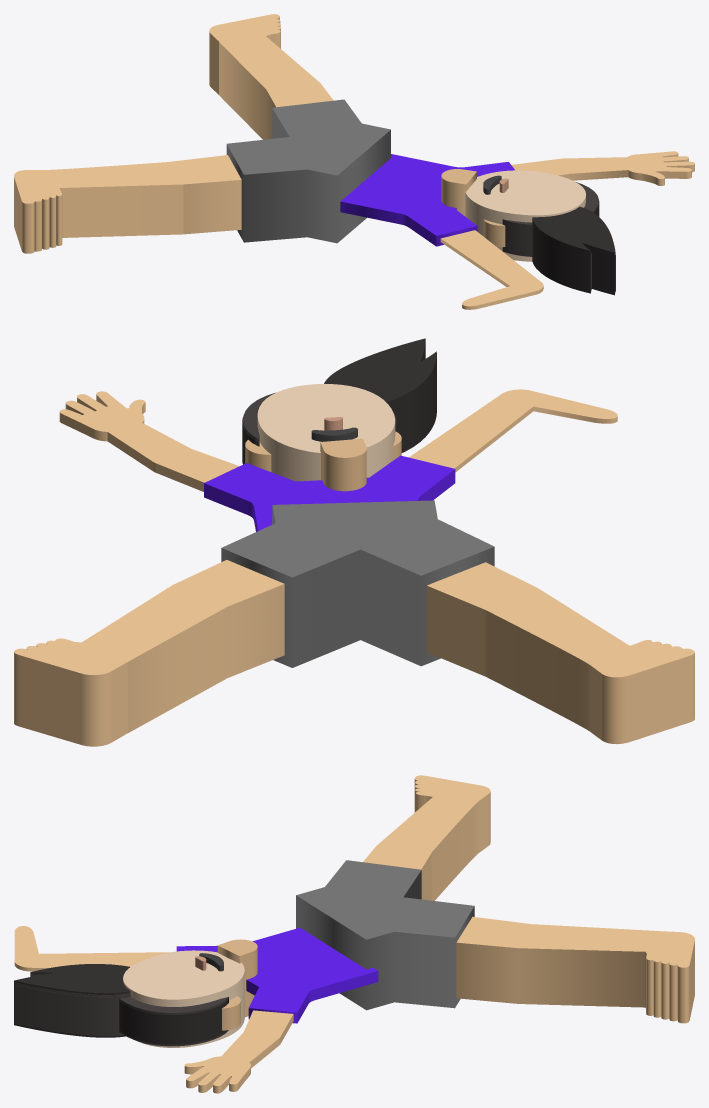
File: emoji_u1f938_1f3fb_200d_2640.glb
3 renders of one model, top to bottom at view 1: azimuth 30°, elevation 25°; view 2: azimuth 150°, elevation 25°; view 3: azimuth 270°, elevation 25°, orthographic. The views are drawn at different scales.
Parts seen in each view (by area): view 1: emoji_u1f938_1f3fb_200d_2640; view 2: emoji_u1f938_1f3fb_200d_2640; view 3: emoji_u1f938_1f3fb_200d_2640.
Part boxes in pixels (box(x1,y1,x2,y2)): emoji_u1f938_1f3fb_200d_2640: box(14, 14, 694, 309); emoji_u1f938_1f3fb_200d_2640: box(14, 338, 694, 746); emoji_u1f938_1f3fb_200d_2640: box(14, 775, 694, 1093).
Size of the model in its own units: 0.0333 by 0.0038 by 0.0332.
